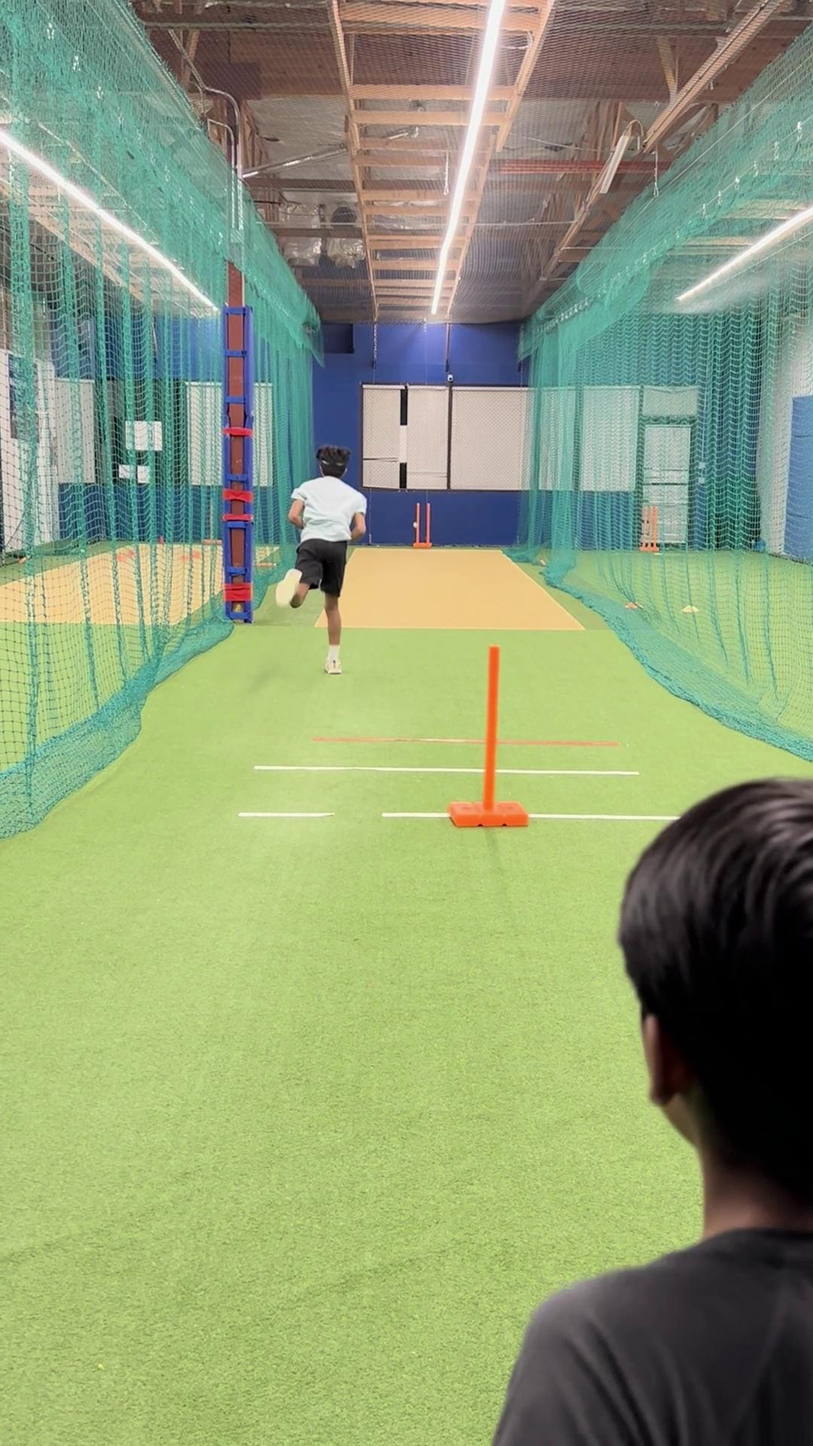ball: (411, 519, 421, 529)
